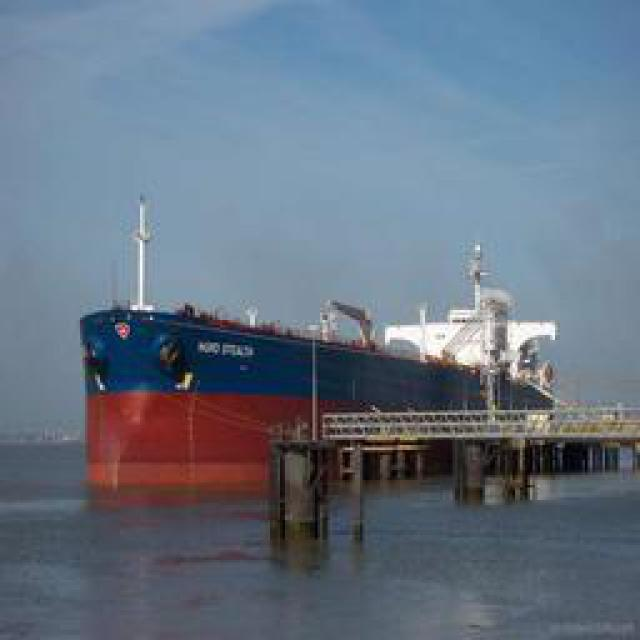Ship: (90, 226, 593, 464)
